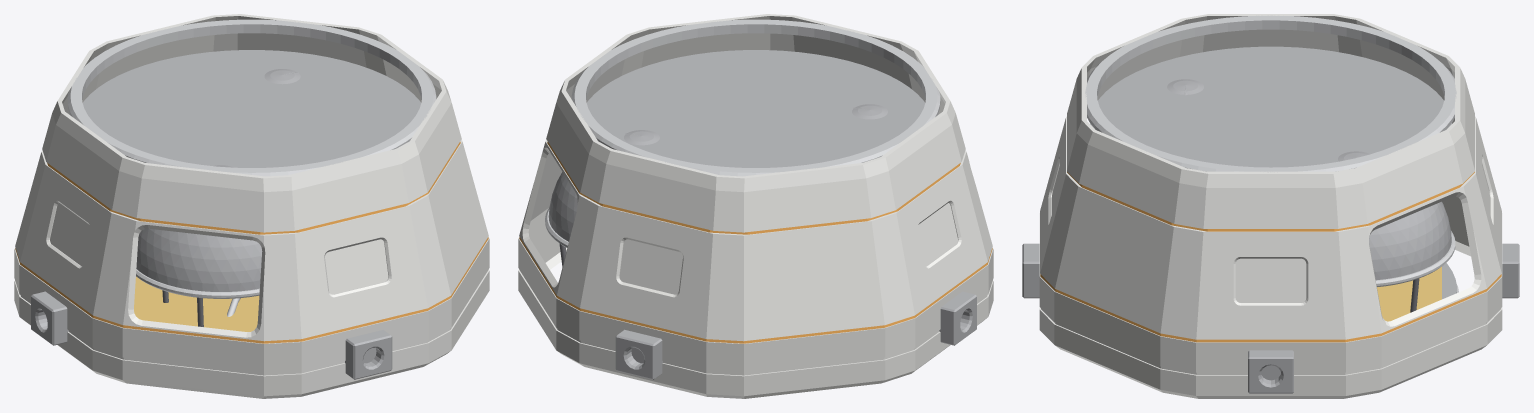
The model's file is ax_tank_16_lander_tank_section_m.glb.
3 renders of one model, left to right at view 1: azimuth 30°, elevation 25°; view 2: azimuth 150°, elevation 25°; view 3: azimuth 270°, elevation 25°, orthographic. The views are drawn at different scales.
Parts seen in each view (by area): view 1: shell, decks, interface_rings, spherical_tanks, mli_floor, leg_hardpoints, orange_stripes, tank_girth_rings; view 2: shell, decks, interface_rings, leg_hardpoints, orange_stripes, spherical_tanks; view 3: shell, decks, interface_rings, spherical_tanks, leg_hardpoints, orange_stripes, mli_floor, tank_girth_rings.
Part boxes in pixels (x1,y1,x2,y2): shell: [14, 14, 489, 398]; decks: [82, 50, 421, 167]; interface_rings: [67, 19, 436, 176]; spherical_tanks: [136, 69, 300, 291]; mli_floor: [134, 276, 259, 331]; leg_hardpoints: [31, 291, 392, 379]; orange_stripes: [15, 141, 488, 343]; tank_girth_rings: [136, 269, 259, 298]; shell: [518, 14, 993, 398]; decks: [586, 50, 925, 167]; interface_rings: [571, 19, 940, 176]; leg_hardpoints: [615, 291, 976, 379]; orange_stripes: [519, 141, 992, 343]; spherical_tanks: [548, 104, 887, 241]; shell: [1039, 14, 1502, 398]; decks: [1090, 46, 1456, 299]; interface_rings: [1085, 15, 1458, 292]; spherical_tanks: [1167, 79, 1451, 280]; leg_hardpoints: [1022, 243, 1519, 393]; orange_stripes: [1040, 172, 1501, 342]; mli_floor: [1377, 266, 1441, 321]; tank_girth_rings: [1375, 231, 1455, 286].
Size of the model in its own units: 3.29 by 1.53 by 3.29.
